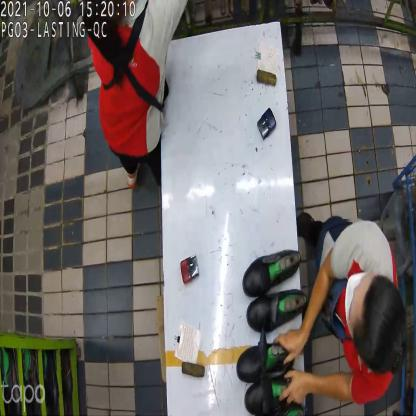shoes: (241, 241, 307, 328), (237, 332, 299, 416)
stamp: (258, 105, 276, 141), (180, 254, 199, 286)
